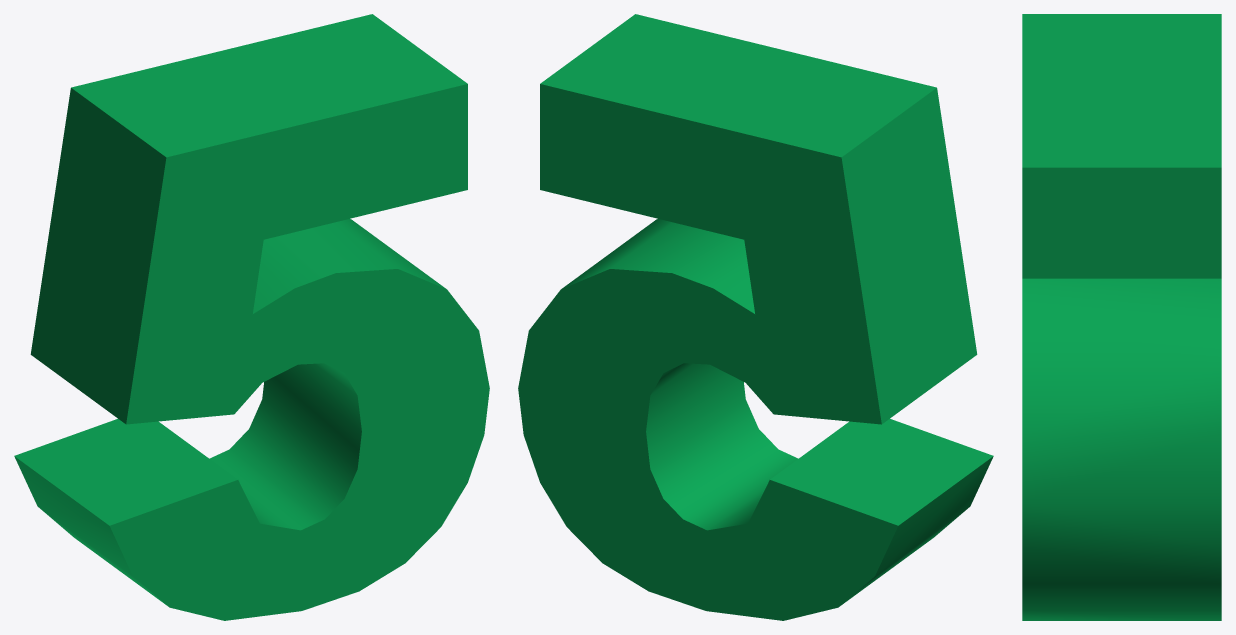
File: five.glb
3 views of the same model, side by side, from view 1: azimuth 30°, elevation 25°; view 2: azimuth 150°, elevation 25°; view 3: azimuth 270°, elevation 25° (orthographic). The views are drawn at different scales.
Parts seen in each view (by area): view 1: Object_8; view 2: Object_8; view 3: Object_8.
Boxes of the visible parts, x1=… form: Object_8: x1=14, y1=14, x2=489, y2=620; Object_8: x1=518, y1=14, x2=993, y2=620; Object_8: x1=1022, y1=14, x2=1221, y2=620.
Size of the model in its own units: 9.2 by 11.25 by 4.
